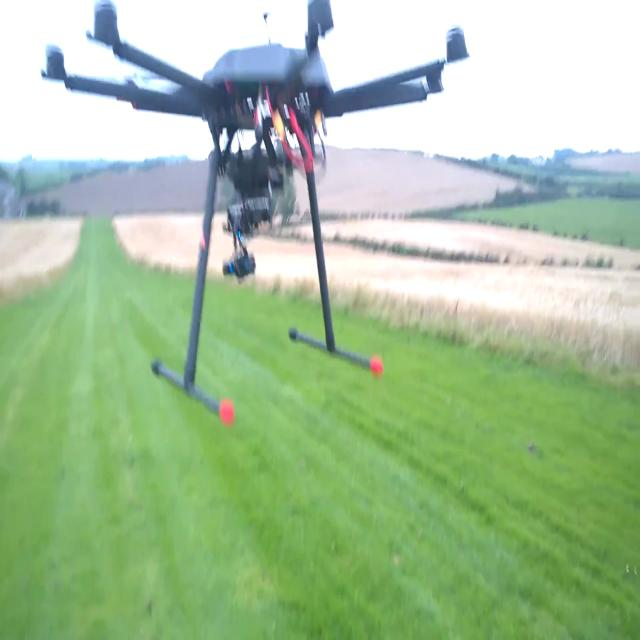drone: (32, 0, 495, 437)
